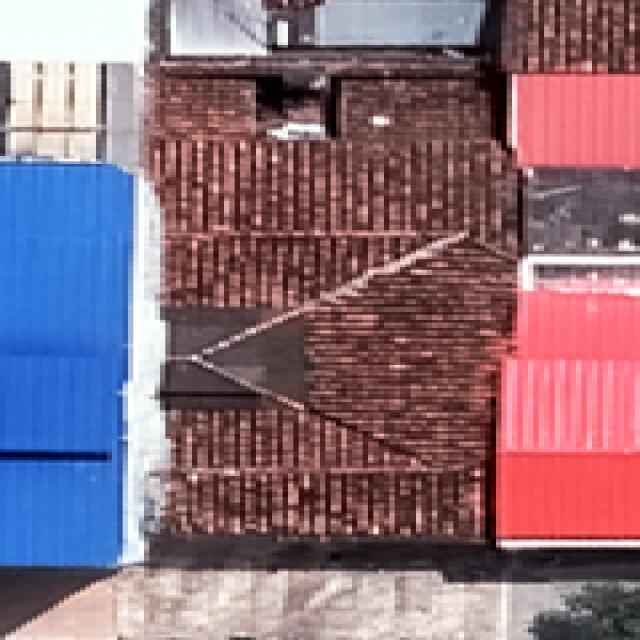Batiment: (158, 51, 519, 539), (0, 164, 134, 566), (497, 290, 640, 539), (516, 74, 640, 169)
